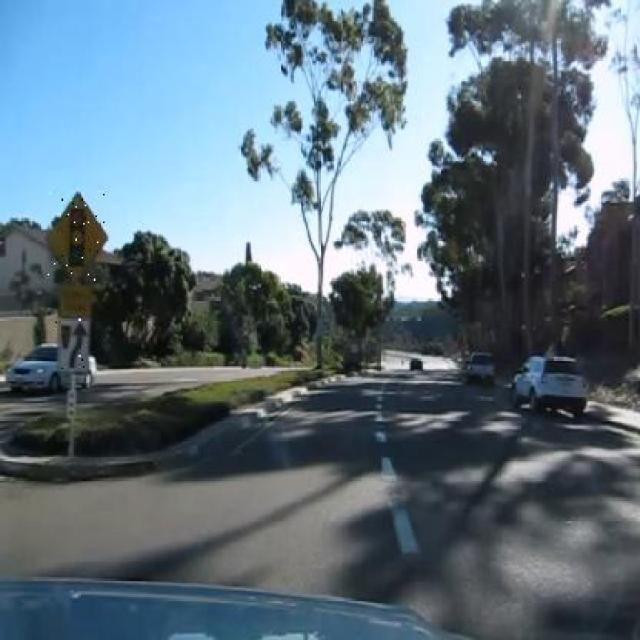keepRight: (56, 316, 92, 374)
signalAhead: (44, 191, 108, 284)
